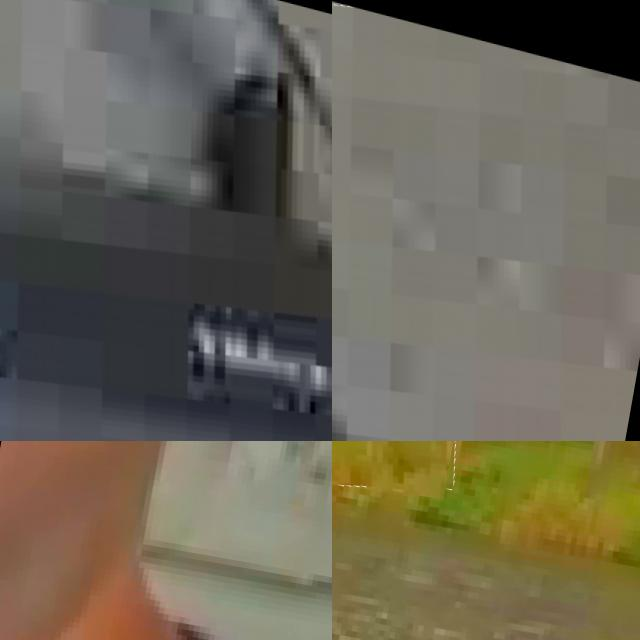drone: (0, 0, 332, 441), (332, 0, 640, 441), (332, 441, 485, 499)
